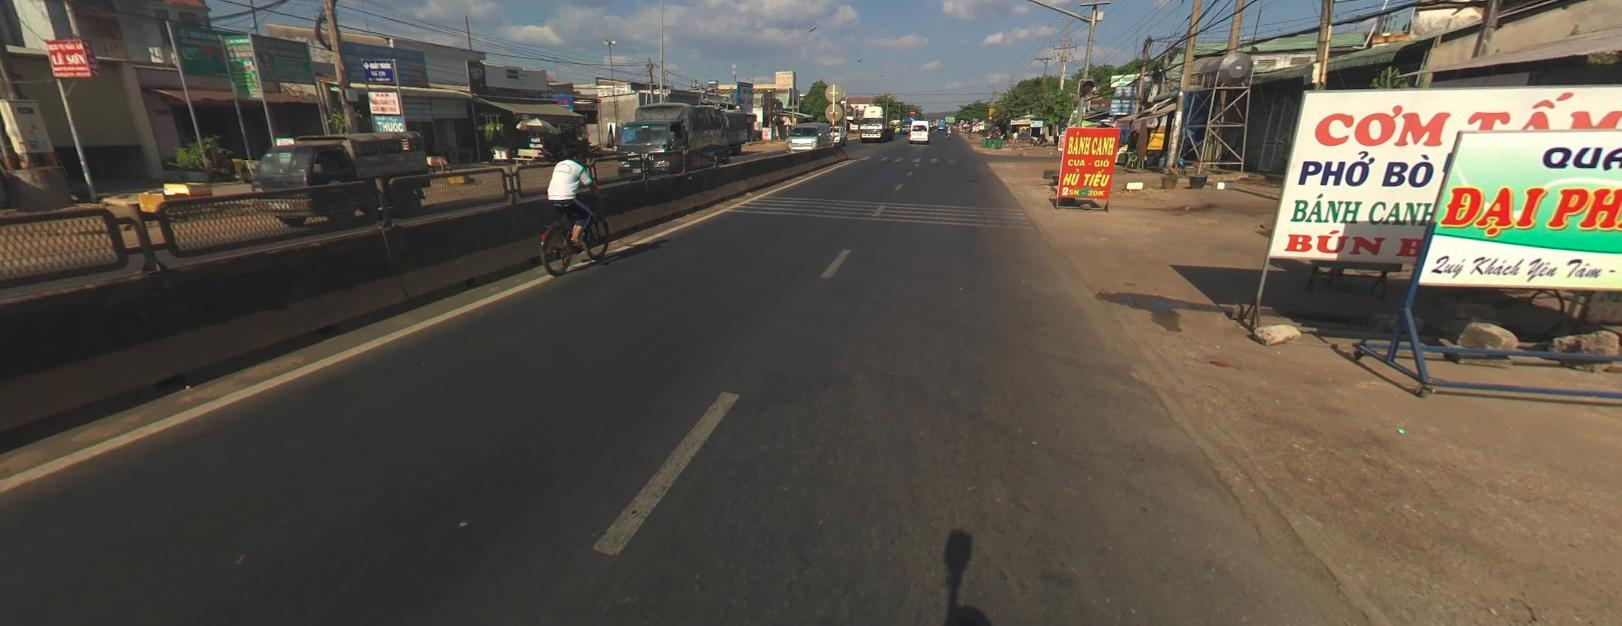Cam nguoc chieu: (908, 108, 915, 114), (909, 108, 915, 114)
Hieu lenh: (908, 115, 915, 121), (908, 114, 914, 120)
